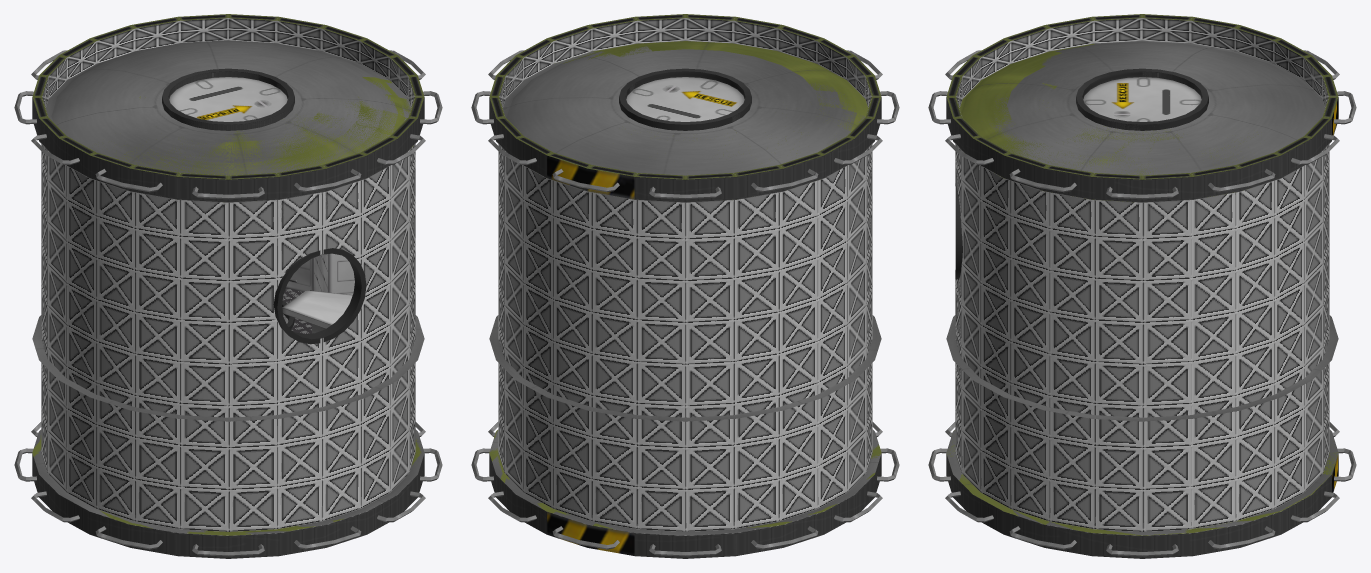
Rendered from MoleSpace.FBX.
3 renders of one model, left to right at view 1: azimuth 30°, elevation 25°; view 2: azimuth 150°, elevation 25°; view 3: azimuth 270°, elevation 25°, orthographic.
Visible parts, largest first — view 1: Cylinder003, EndCap011, TankSleeve001, TankSleeve002, EndCap001, CrewPort006, EndCap013, Tube001, EndCap012, Box081, MEC003, CrewPort (+3 smaller); view 2: Cylinder003, EndCap011, TankSleeve001, TankSleeve002, CrewPort006, EndCap001, EndCap013, EndCap012, EndCap014, EndCap002; view 3: Cylinder003, EndCap011, TankSleeve001, TankSleeve002, CrewPort006, EndCap001, EndCap013, EndCap012, EndCap002, CrewPort, EndCap014, Tube001.
Part boxes in pixels (x1,y1,x2,y2): Cylinder003: [41, 144, 415, 531]; EndCap011: [33, 40, 423, 202]; TankSleeve001: [32, 14, 424, 202]; TankSleeve002: [32, 453, 424, 558]; EndCap001: [116, 77, 413, 175]; CrewPort006: [162, 68, 294, 125]; EndCap013: [32, 289, 424, 421]; Tube001: [273, 248, 366, 344]; EndCap012: [33, 429, 424, 534]; Box081: [282, 290, 352, 328]; MEC003: [313, 253, 354, 294]; CrewPort: [167, 71, 294, 130]; Cylinder003: [498, 144, 872, 531]; EndCap011: [490, 41, 880, 202]; TankSleeve001: [489, 14, 881, 202]; TankSleeve002: [489, 453, 881, 558]; CrewPort006: [619, 68, 751, 130]; EndCap001: [554, 41, 868, 154]; EndCap013: [489, 315, 881, 421]; EndCap012: [490, 429, 880, 535]; EndCap014: [491, 316, 879, 420]; EndCap002: [489, 430, 881, 529]; Cylinder003: [955, 144, 1329, 531]; EndCap011: [947, 41, 1337, 202]; TankSleeve001: [946, 14, 1338, 202]; TankSleeve002: [946, 453, 1338, 558]; CrewPort006: [1076, 68, 1208, 130]; EndCap001: [959, 44, 1258, 202]; EndCap013: [946, 315, 1338, 421]; EndCap012: [946, 429, 1338, 535]; EndCap002: [947, 430, 1338, 535]; CrewPort: [1076, 71, 1202, 130]; EndCap014: [947, 317, 1337, 421]; Tube001: [955, 183, 962, 279].
Size of the model in its own units: 2.05 by 2 by 2.05.
